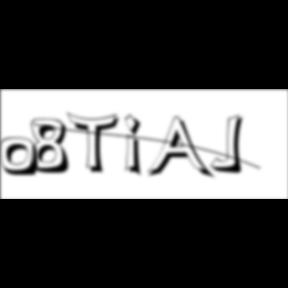8: (32, 117, 76, 176)
A: (148, 116, 216, 182)
J: (210, 114, 250, 176)
T: (67, 112, 125, 176)
i: (125, 112, 149, 180)
o: (0, 137, 42, 179)
